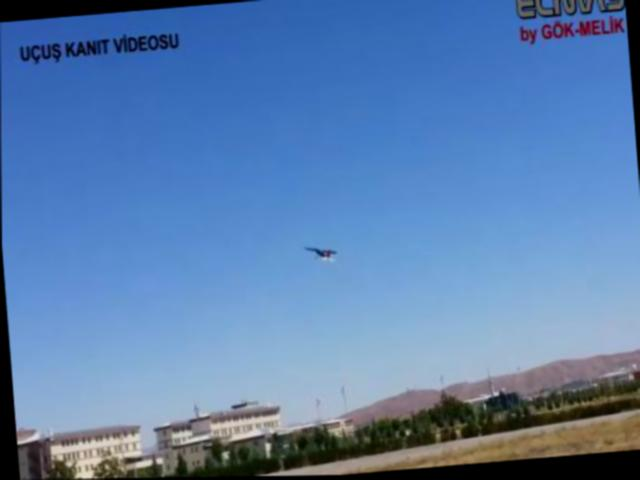uav: (299, 240, 340, 266)
